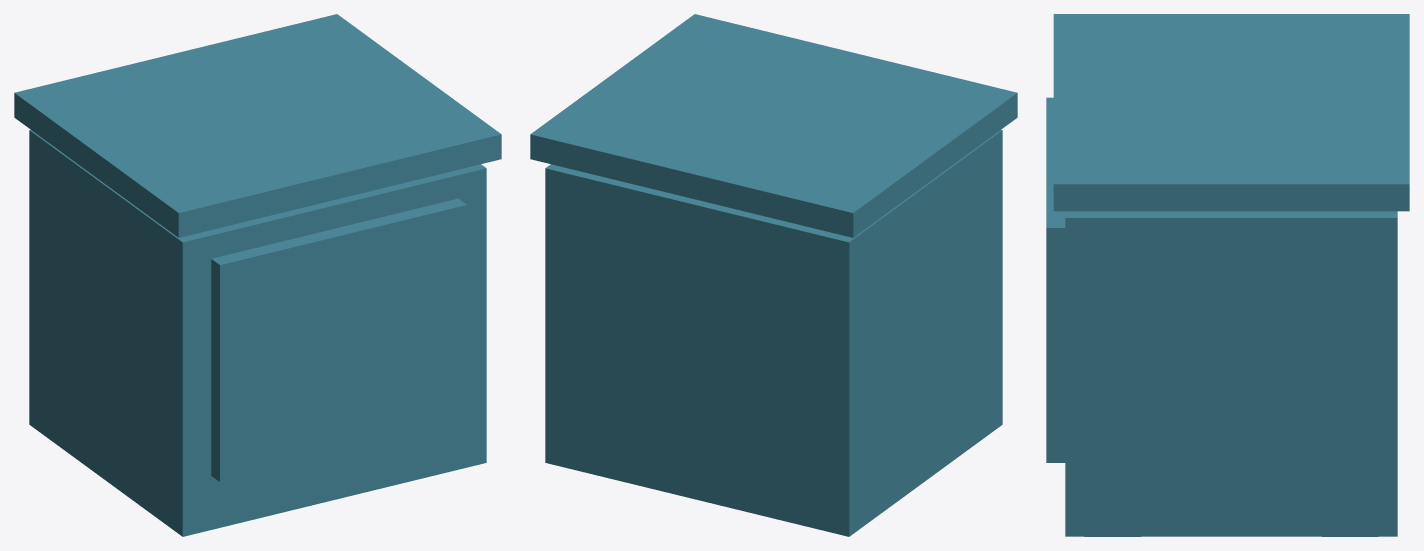
Rendered from chiller.glb.
3 views of the same model, side by side, from view 1: azimuth 30°, elevation 25°; view 2: azimuth 150°, elevation 25°; view 3: azimuth 270°, elevation 25° (orthographic). The views are drawn at different scales.
Visible parts, largest first — view 1: module.chiller; view 2: module.chiller; view 3: module.chiller.
Part boxes in pixels (x1,y1,x2,y2): module.chiller: [14, 14, 501, 536]; module.chiller: [530, 14, 1017, 536]; module.chiller: [1046, 14, 1409, 536].
Bounding box in the file's own units: 1 × 1 × 0.9.
